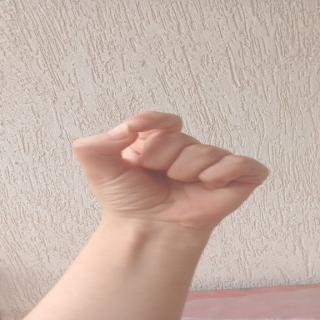FAA: (70, 102, 289, 224)
